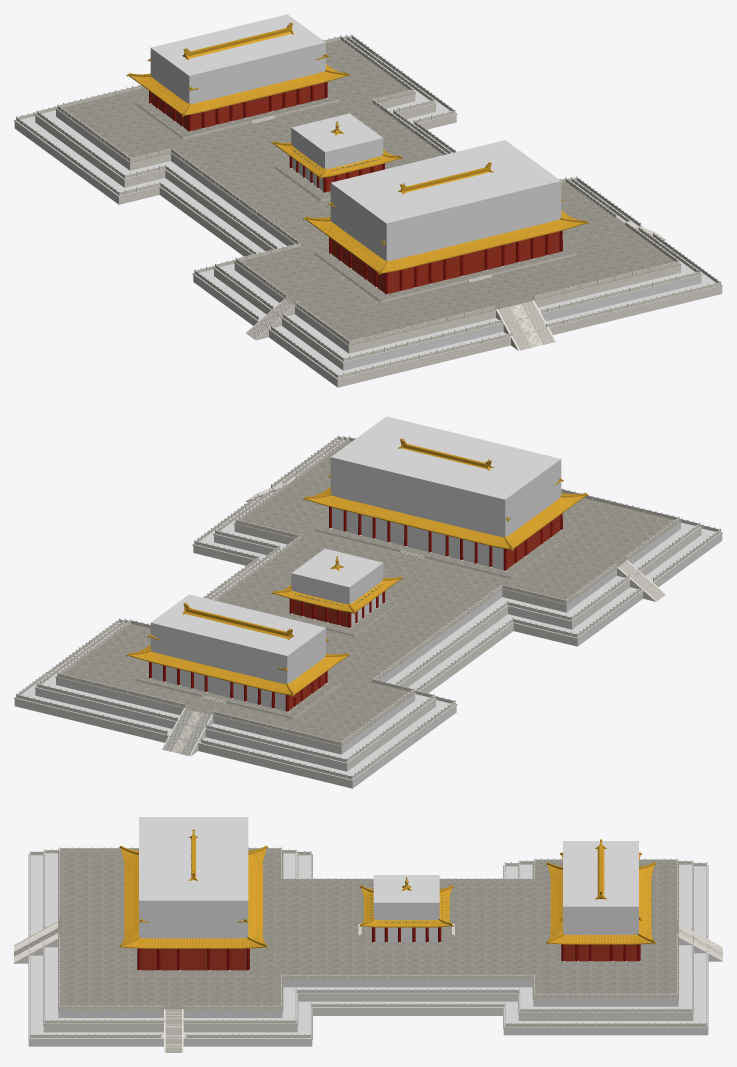
File: taihedian.glb
The picture shows the model from 3 angles, top to bottom: view 1: azimuth 30°, elevation 25°; view 2: azimuth 150°, elevation 25°; view 3: azimuth 270°, elevation 25°; orthographic projection.
Visible parts, largest first — view 1: Massing, Terrace, COL_taihe, COL_baohe, Halls, COL_south1, COL_south0, COL_zhonghe, COL_north0, COL_north1, COL_neck1, COL_neck0 (+2 smaller); view 2: Massing, Terrace, COL_taihe, COL_baohe, Halls, COL_north1, COL_zhonghe, COL_north0, COL_south0, COL_south1, COL_north2, COL_neck1 (+3 smaller); view 3: Massing, Terrace, COL_taihe, Halls, COL_baohe, COL_south0, COL_north0, COL_south1, COL_zhonghe, COL_north1, COL_neck2, COL_south2 (+3 smaller).
Boxes of the visible parts, bbox=[...] form: Massing: bbox=[35, 28, 722, 387]; Terrace: bbox=[14, 34, 722, 380]; COL_taihe: bbox=[330, 140, 561, 261]; COL_baohe: bbox=[150, 14, 325, 104]; Halls: bbox=[126, 22, 588, 274]; COL_south1: bbox=[214, 181, 701, 370]; COL_south0: bbox=[193, 181, 721, 387]; COL_zhonghe: bbox=[291, 113, 383, 190]; COL_north0: bbox=[14, 39, 456, 204]; COL_north1: bbox=[36, 39, 435, 179]; COL_neck1: bbox=[166, 114, 446, 249]; COL_neck0: bbox=[160, 124, 452, 254]; Massing: bbox=[14, 441, 701, 788]; Terrace: bbox=[14, 435, 722, 781]; COL_taihe: bbox=[330, 416, 561, 569]; COL_baohe: bbox=[150, 594, 325, 710]; Halls: bbox=[126, 438, 588, 696]; COL_north1: bbox=[35, 623, 435, 771]; COL_zhonghe: bbox=[291, 548, 383, 626]; COL_north0: bbox=[15, 622, 456, 788]; COL_south0: bbox=[194, 440, 722, 646]; COL_south1: bbox=[214, 440, 700, 629]; COL_north2: bbox=[56, 678, 415, 754]; COL_neck1: bbox=[212, 550, 507, 685]; Massing: bbox=[43, 834, 693, 1032]; Terrace: bbox=[14, 847, 722, 1052]; COL_taihe: bbox=[139, 817, 248, 938]; Halls: bbox=[119, 829, 655, 948]; COL_baohe: bbox=[563, 841, 638, 934]; COL_south0: bbox=[28, 854, 312, 1046]; COL_north0: bbox=[503, 865, 708, 1035]; COL_south1: bbox=[43, 852, 297, 1023]; COL_zhonghe: bbox=[373, 875, 439, 942]; COL_north1: bbox=[518, 864, 693, 1012]; COL_neck2: bbox=[283, 980, 532, 987]; COL_south2: bbox=[58, 1011, 282, 1017].
Bounding box in the file's own units: 141 × 34.95 × 215.
Materials: 10 (5 with a texture image).
